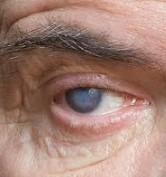eye: (66, 87, 104, 114)
